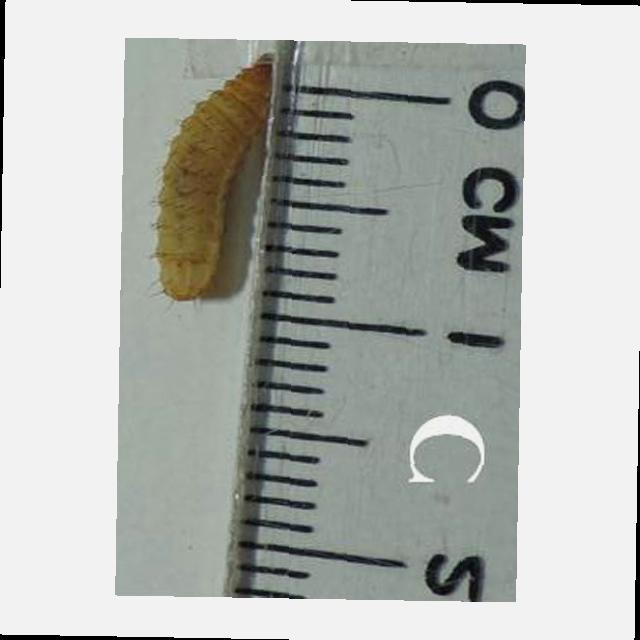Maggot: (147, 53, 275, 304)
